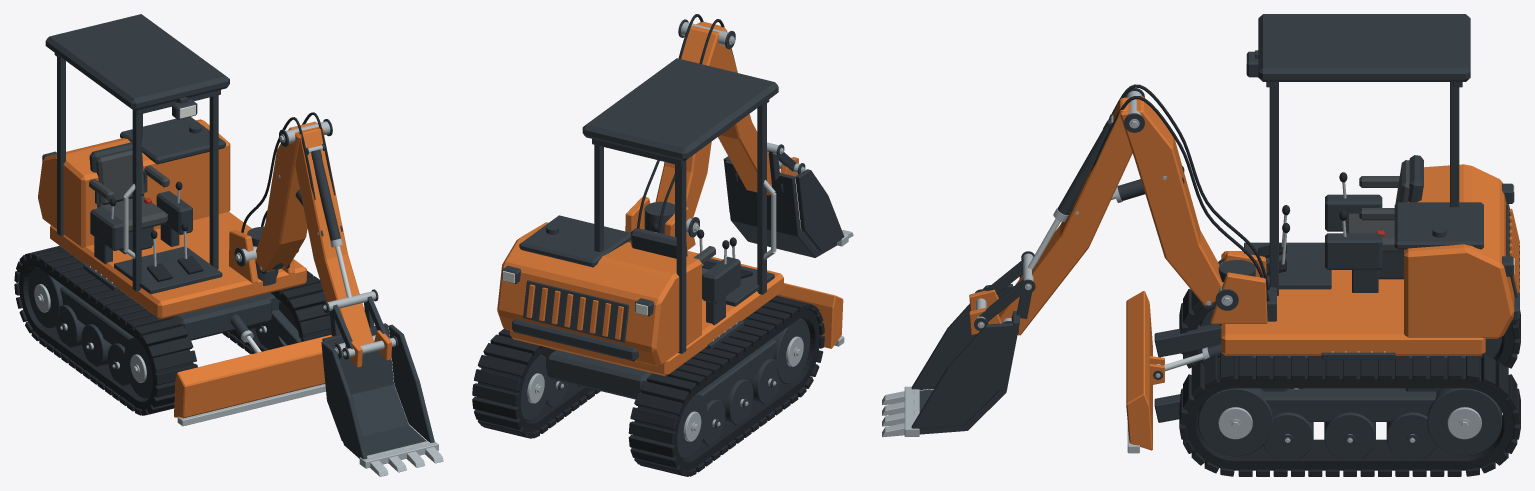
The model's file is city-tracked-mini-excavator.glb.
3 views of the same model, side by side, from view 1: azimuth 30°, elevation 25°; view 2: azimuth 150°, elevation 25°; view 3: azimuth 270°, elevation 25° (orthographic). The views are drawn at different scales.
Visible parts, largest first — view 1: Assembly | Graphite steel frame, Assembly | Muted orange enamel, Assembly | Charcoal rubber, Assembly | Satin plated steel, Assembly | Dark upholstery; view 2: Assembly | Graphite steel frame, Assembly | Muted orange enamel, Assembly | Charcoal rubber, Assembly | Satin plated steel; view 3: Assembly | Graphite steel frame, Assembly | Muted orange enamel, Assembly | Charcoal rubber, Assembly | Satin plated steel, Assembly | Dark upholstery, Assembly | Polished hydraulic rod.
Boxes of the visible parts, x1,y1,x2,y2 form: Assembly | Graphite steel frame: (28,14,434,459); Assembly | Muted orange enamel: (38,119,391,418); Assembly | Charcoal rubber: (14,112,335,415); Assembly | Satin plated steel: (34,121,443,476); Assembly | Dark upholstery: (89,149,169,232); Assembly | Graphite steel frame: (502,19,844,458); Assembly | Muted orange enamel: (497,21,843,376); Assembly | Charcoal rubber: (472,14,824,476); Assembly | Satin plated steel: (527,22,853,441); Assembly | Graphite steel frame: (911,14,1519,458); Assembly | Muted orange enamel: (969,96,1519,450); Assembly | Charcoal rubber: (1088,84,1520,476); Assembly | Satin plated steel: (882,91,1481,453); Assembly | Dark upholstery: (1345,160,1409,252); Assembly | Polished hydraulic rod: (1027,193,1204,371).
Size of the model in its own units: 1.54 by 2.36 by 3.79.
